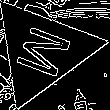M_E: (8, 20, 76, 81)
